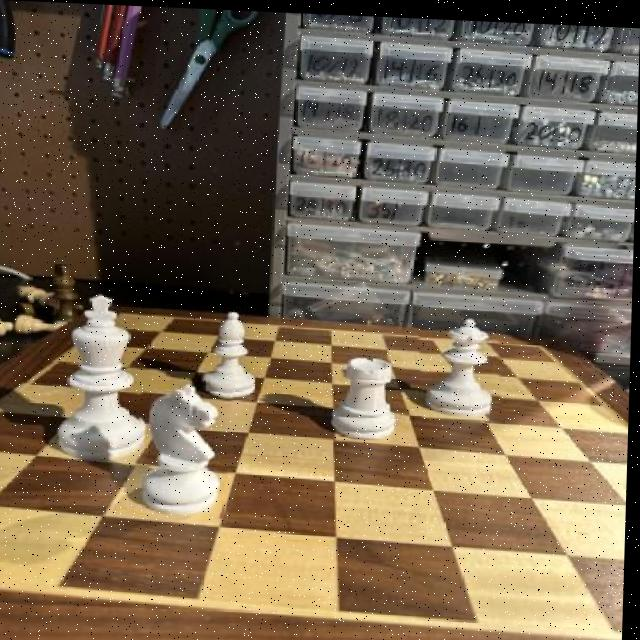black-rook: (202, 304, 270, 400)
white-bishop: (52, 292, 155, 461)
white-king: (137, 376, 235, 516)
white-pawn: (418, 306, 505, 420)
white-queen: (333, 349, 404, 440)
